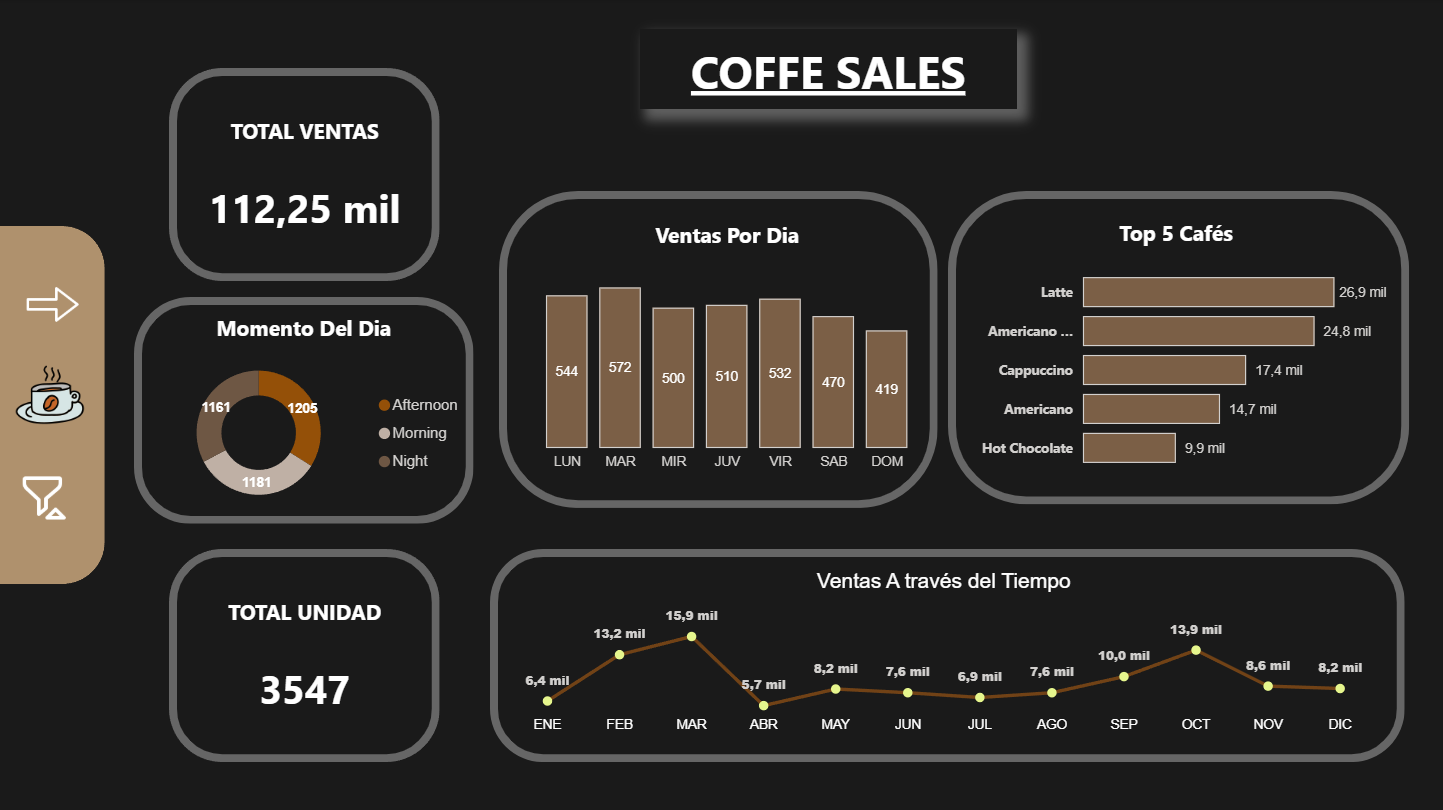

What the dashboard file says about the page in this screenshot:
{"tool":"powerbi","page":{"name":"Home","canvas":[1280,720],"ordinal":0},"visuals":[{"type":"shape","box":[151.1,61.1,240,188.9],"z":0,"group":"g3"},{"type":"shape","box":[443.3,170,388.9,281.1],"z":0,"group":"g4"},{"type":"group","id":"g1","title":"Grupo 1","box":[841.1,170,408.9,277.8],"z":0},{"type":"group","id":"g2","title":"Grupo 6","box":[841.1,170,408.9,277.8],"z":0,"group":"g1"},{"type":"shape","box":[841.1,170,408.9,277.8],"z":0,"group":"g2"},{"type":"shape","box":[120,264.4,301.1,201.1],"z":0,"group":"g6"},{"type":"shape","box":[151.1,487.8,240,188.9],"z":0,"group":"g7"},{"type":"shape","box":[435.6,487.8,811.1,188.9],"z":0,"group":"g5"},{"type":"group","id":"g3","title":"Grupo 2","box":[151.1,61.1,240,188.9],"z":1000},{"type":"card","title":"TOTAL VENTAS","fields":{"Values":["Sum(Coffe_sales.money)"]},"box":[175.5,97.8,191.1,143.3],"z":1000,"group":"g3"},{"type":"clusteredBarChart","title":"Top 5 Cafés","fields":{"Category":["Coffe_sales.coffee_name"],"Y":["Sum(Coffe_sales.money)"]},"box":[851.3,189.1,383.3,241.4],"z":1000,"group":"g2"},{"type":"clusteredColumnChart","title":"Ventas Por Dia","fields":{"Category":["TableDias.DiaAbre"],"Y":["Sum(Coffe_sales.Pedido)"]},"box":[460.6,191.5,369.2,234.6],"z":1000,"group":"g4"},{"type":"donutChart","title":"Momento Del Dia","fields":{"Category":["Coffe_sales.Time_of_Day"],"Y":["Sum(Coffe_sales.Pedido)"]},"box":[120,274.4,301.1,191.1],"z":1000,"group":"g6"},{"type":"lineChart","title":"Ventas A través del Tiempo","fields":{"Category":["TableMeses.MesAbre"],"Y":["Sum(Coffe_sales.money)"]},"box":[456.3,505.1,764,154.4],"z":1000,"group":"g5"},{"type":"card","title":"TOTAL UNIDAD","fields":{"Values":["Sum(Coffe_sales.Pedido)"]},"box":[175.5,524.5,191.1,143.3],"z":1000,"group":"g7"},{"type":"group","id":"g4","title":"Grupo 3","box":[443.3,170,388.9,281.1],"z":2000},{"type":"group","id":"g5","title":"Grupo 4","box":[435.6,487.8,811.1,188.9],"z":3000},{"type":"group","id":"g6","title":"Grupo 5","box":[120,264.4,301.1,201.1],"z":4000},{"type":"group","id":"g7","title":"Grupo 2","box":[151.1,487.8,240,188.9],"z":5000},{"type":"textbox","title":"COFFE SALES","box":[568.8,26.2,333.8,71.2],"z":6000},{"type":"shape","box":[0,201.2,93.8,317.5],"z":7000},{"type":"image","title":"siguiente","box":[15,232.5,65,76.2],"z":8000},{"type":"image","title":"Img. Filtro","box":[10.8,408.1,61.1,67.8],"z":9000},{"type":"image","box":[10,308.8,75,90],"z":11000}]}

Visuals, with their boxes in screenshot pixels (x1, y1, x2, y2), scaled from the page's 1280x720 canvas onto the 1443x810 screenshot:
shape: x1=170 y1=69 x2=441 y2=281
shape: x1=500 y1=191 x2=938 y2=507
"Grupo 1" group: x1=948 y1=191 x2=1409 y2=504
"Grupo 6" group: x1=948 y1=191 x2=1409 y2=504
shape: x1=948 y1=191 x2=1409 y2=504
shape: x1=135 y1=297 x2=475 y2=524
shape: x1=170 y1=549 x2=441 y2=761
shape: x1=491 y1=549 x2=1405 y2=761
"Grupo 2" group: x1=170 y1=69 x2=441 y2=281
"TOTAL VENTAS" card: x1=198 y1=110 x2=413 y2=271
"Top 5 Cafés" clusteredBarChart: x1=960 y1=213 x2=1392 y2=484
"Ventas Por Dia" clusteredColumnChart: x1=519 y1=215 x2=935 y2=479
"Momento Del Dia" donutChart: x1=135 y1=309 x2=475 y2=524
"Ventas A través del Tiempo" lineChart: x1=514 y1=568 x2=1376 y2=742
"TOTAL UNIDAD" card: x1=198 y1=590 x2=413 y2=751
"Grupo 3" group: x1=500 y1=191 x2=938 y2=507
"Grupo 4" group: x1=491 y1=549 x2=1405 y2=761
"Grupo 5" group: x1=135 y1=297 x2=475 y2=524
"Grupo 2" group: x1=170 y1=549 x2=441 y2=761
"COFFE SALES" textbox: x1=641 y1=29 x2=1018 y2=110
shape: x1=0 y1=226 x2=106 y2=584
"siguiente" image: x1=17 y1=262 x2=90 y2=347
"Img. Filtro" image: x1=12 y1=459 x2=81 y2=535
image: x1=11 y1=347 x2=96 y2=449
